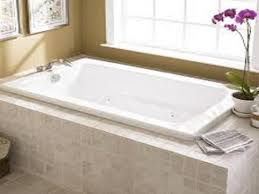bathub: (2, 55, 250, 194)
